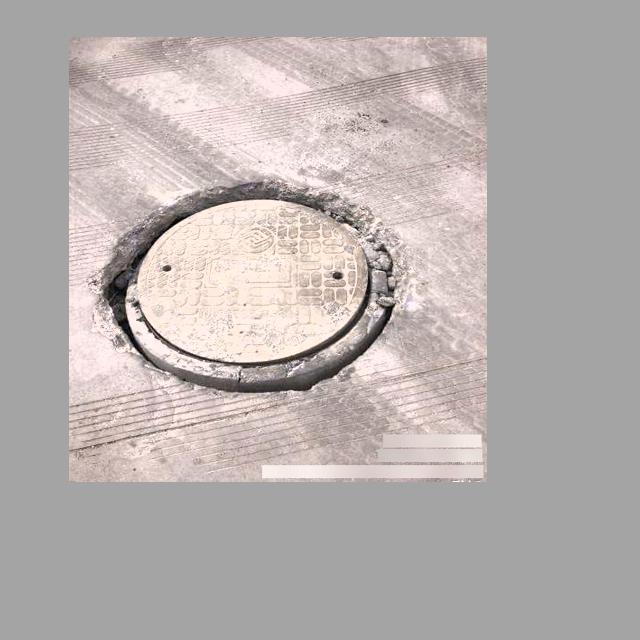circle: (105, 182, 404, 397)
